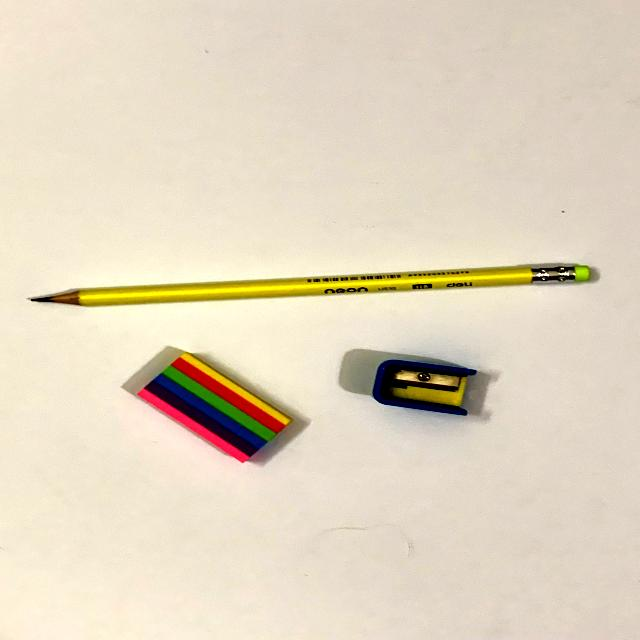Eraser: (127, 337, 316, 488)
Pencil: (20, 252, 621, 321)
Sharpner: (339, 353, 505, 424)
